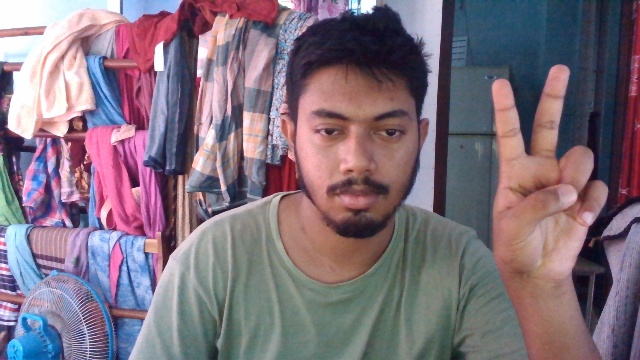thanks: (479, 59, 607, 301)
